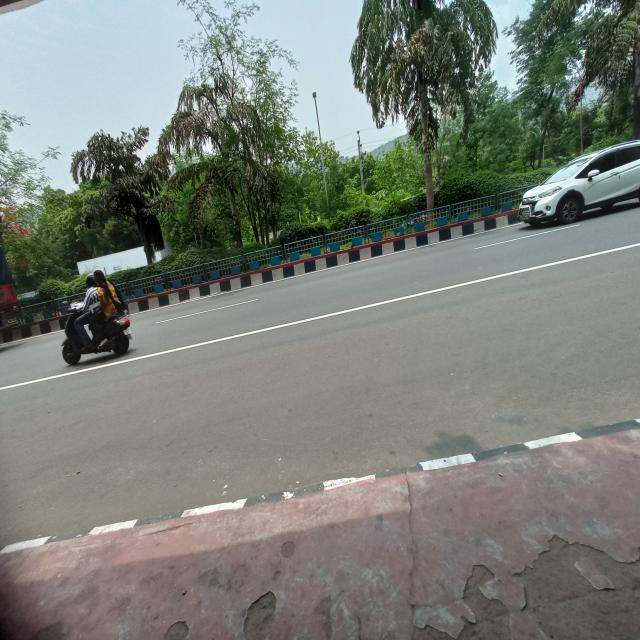bike: (54, 301, 132, 360)
car: (512, 129, 640, 241)
